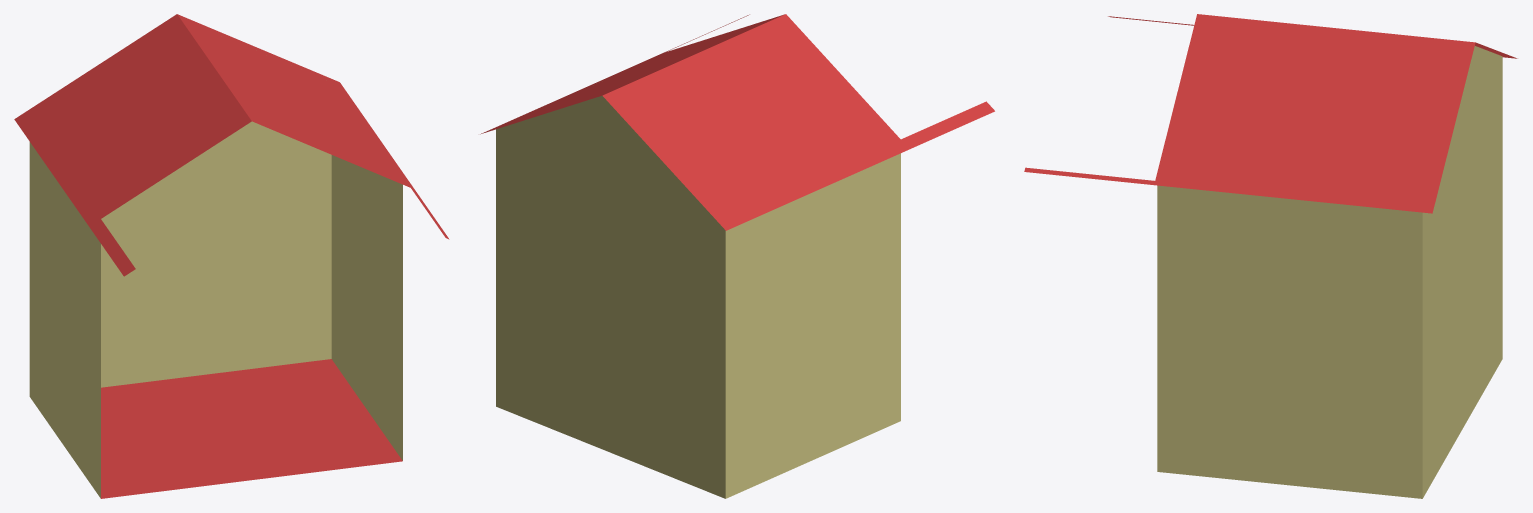
3 renders of one model, left to right at view 1: azimuth 30°, elevation 25°; view 2: azimuth 150°, elevation 25°; view 3: azimuth 270°, elevation 25°, orthographic. The views are drawn at different scales.
Bounding box in the file's own units: 17.03 × 18.48 × 16.
